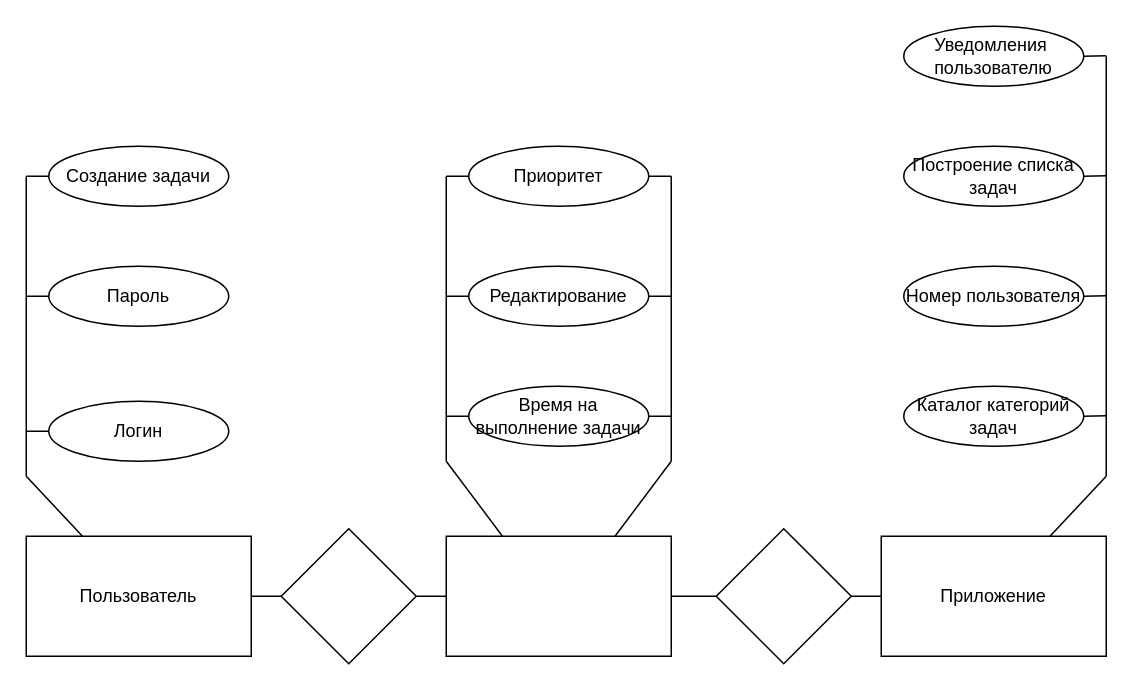
Some shapes in this 1134 by 690 pixel diagram are drawn without their labels. The shapes that lost their labels are listed below. From the top down, each one's centre as x and y in pixels, then its label:
[348,595]: Пользователь создает задачу
[558,595]: Задача
[783,595]: Задача заносится в список задач
